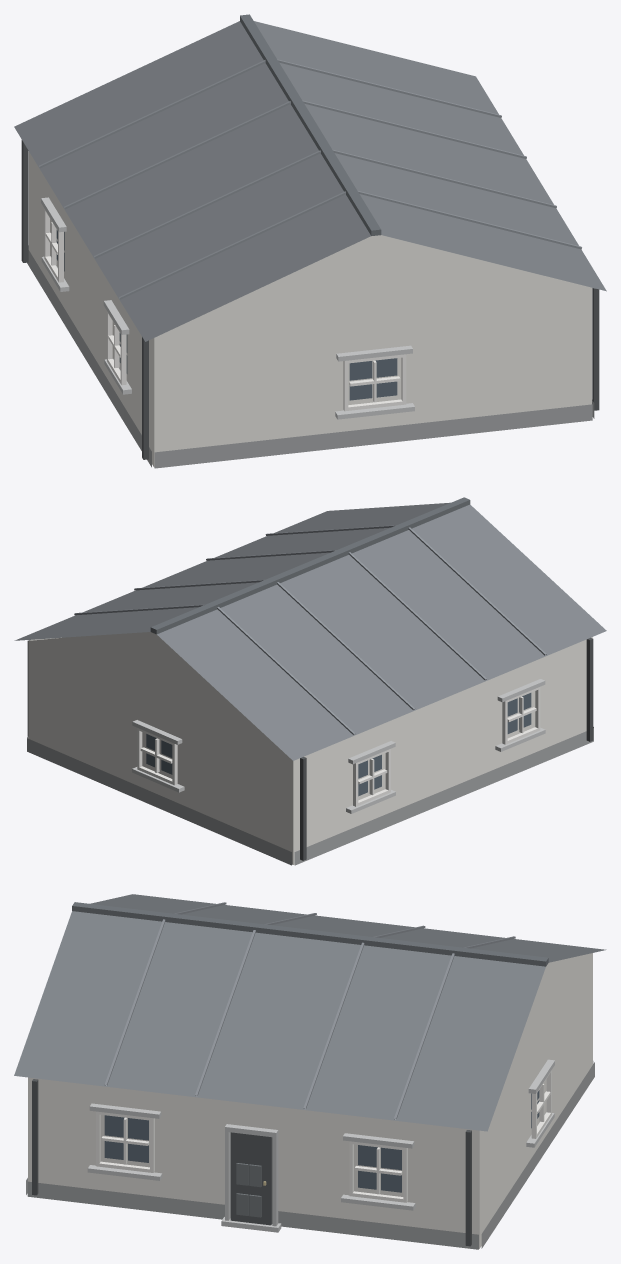
3 views of the same model, one above another, from view 1: azimuth 30°, elevation 25°; view 2: azimuth 150°, elevation 25°; view 3: azimuth 270°, elevation 25° (orthographic). The views are drawn at different scales.
Visible parts, largest first — view 1: slate, harl, plinth, slate_lt, frame, slate_dk, pipe, stone_band; view 2: slate, harl, plinth, slate_lt, slate_dk, frame, stone_band, pipe; view 3: slate, harl, plinth, stone_band, slate_dk, frame, slate_lt, door_dark, pipe, door_dark_p.
Boxes of the visible parts, x1,y1,x2,y2 form: slate: [14, 21, 606, 341]; harl: [29, 152, 591, 467]; plinth: [27, 245, 594, 468]; slate_lt: [39, 59, 581, 299]; frame: [44, 209, 406, 411]; slate_dk: [240, 14, 381, 235]; pipe: [21, 140, 599, 459]; stone_band: [41, 197, 414, 419]; slate: [14, 502, 606, 760]; harl: [28, 632, 592, 864]; plinth: [27, 727, 593, 865]; slate_lt: [74, 525, 546, 735]; slate_dk: [150, 497, 470, 634]; frame: [137, 687, 540, 806]; stone_band: [132, 679, 545, 813]; pipe: [27, 637, 593, 860]; slate: [14, 894, 606, 1131]; harl: [28, 953, 592, 1248]; plinth: [26, 1061, 594, 1249]; stone_band: [87, 1059, 554, 1232]; slate_dk: [72, 902, 548, 966]; frame: [96, 1070, 551, 1202]; slate_lt: [104, 902, 515, 1119]; door_dark: [230, 1132, 272, 1225]; pipe: [32, 1079, 471, 1246]; door_dark_p: [236, 1163, 261, 1217].
Bounding box in the file's own units: 11.76 × 4.75 × 12.42.
